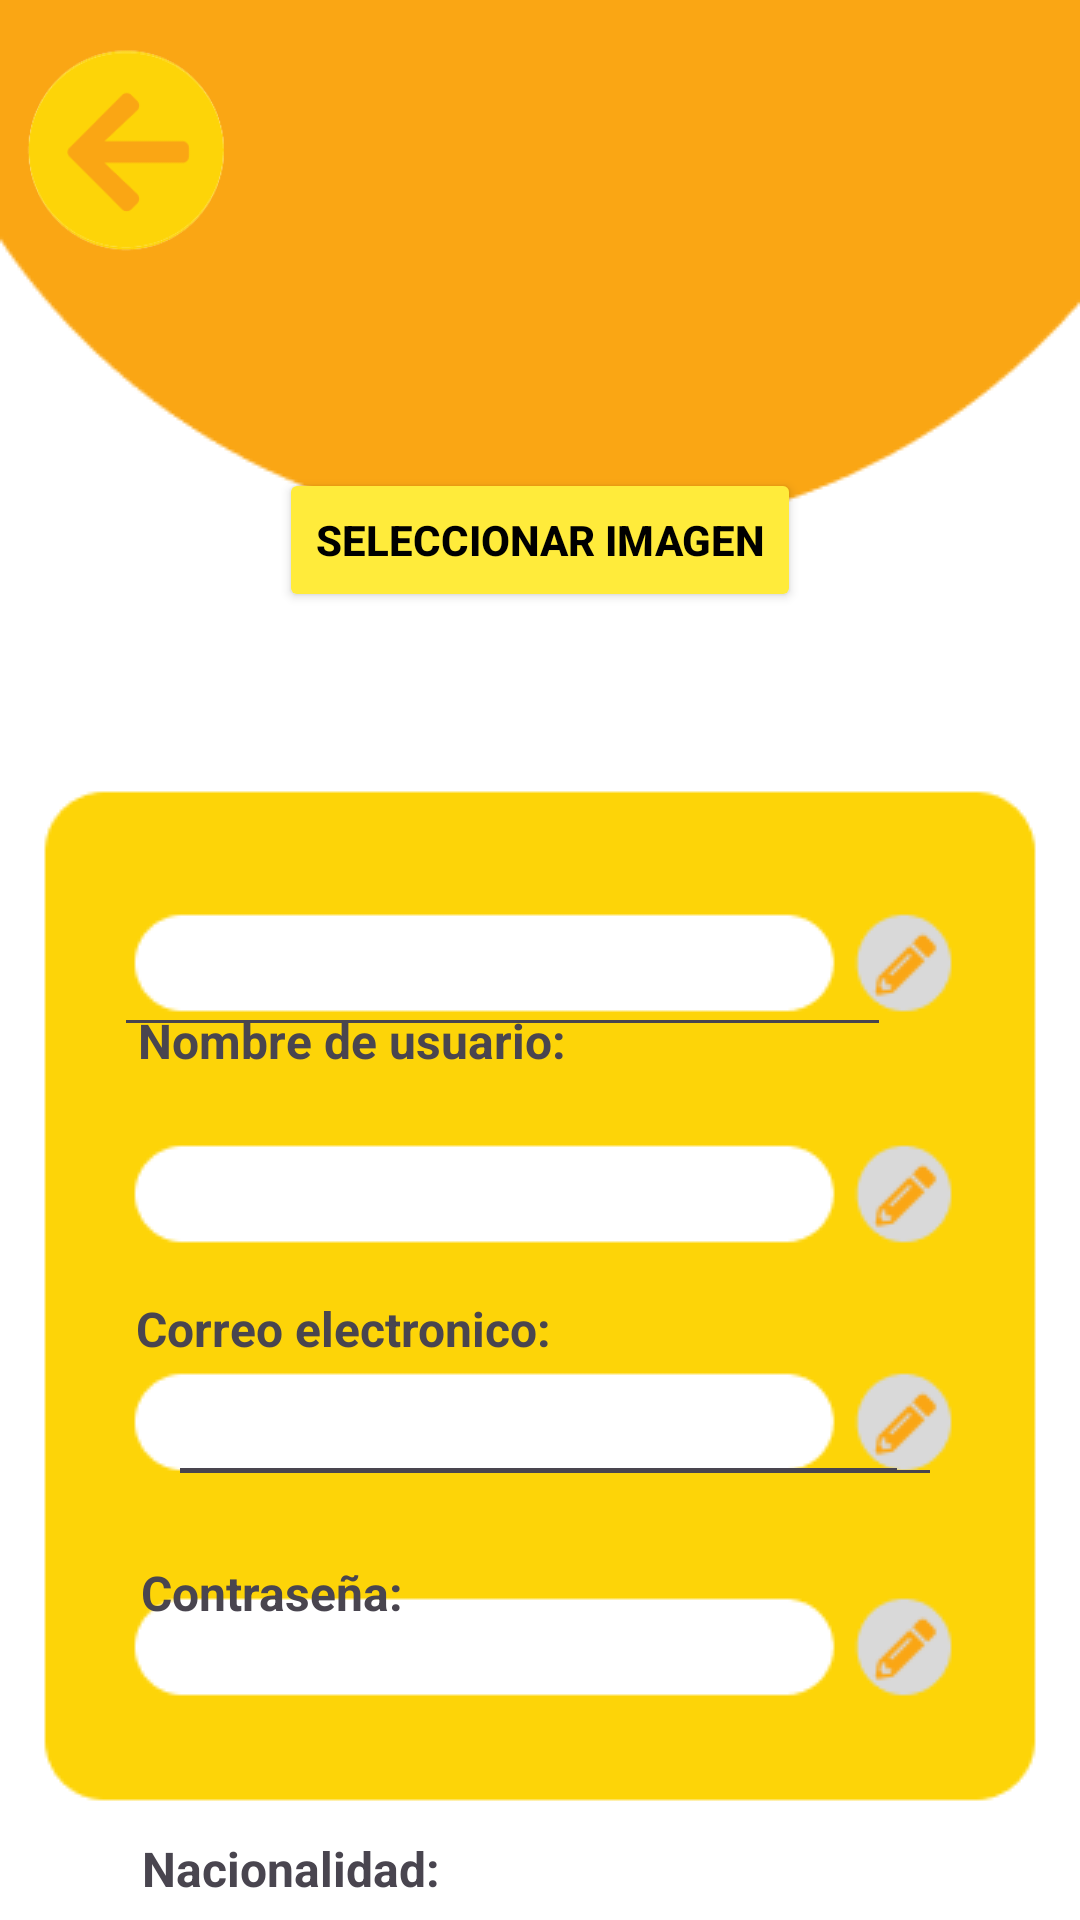

Icon click points for this 1080*1920 phone screenshot, format (x,y):
btnvolver: (126,150)
